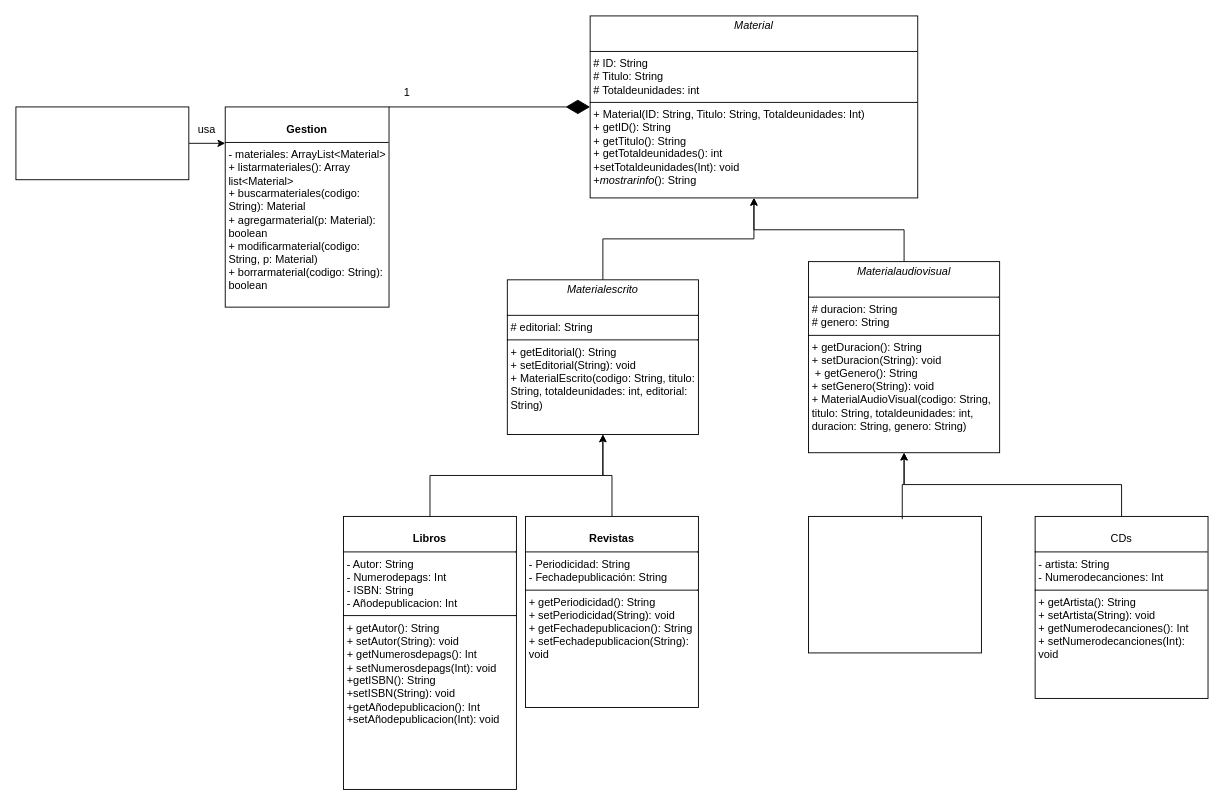
Some shapes in this 1224 by 805 pixel diagram are drawn without their labels. The shapes that lost their labels are listed below. From the top down, each one's centre as x and y in pixels, then its label:
At point (102, 143): "Main + main(String[])".
At point (894, 584): "DVDs - Director: String + getDirector(): String + setDirector( String ): void".
